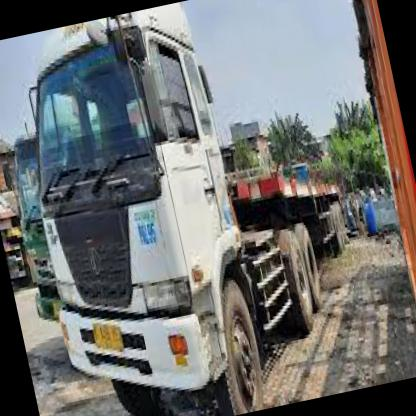truck: (1, 12, 283, 416)
